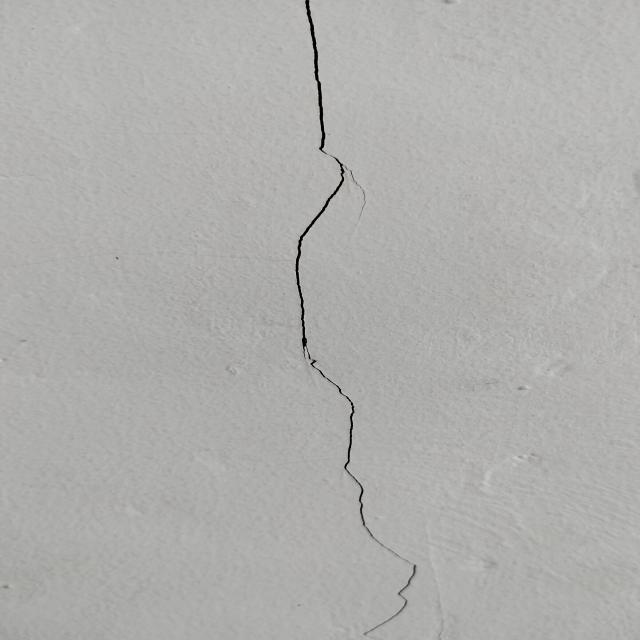Crack: (279, 5, 428, 639)
